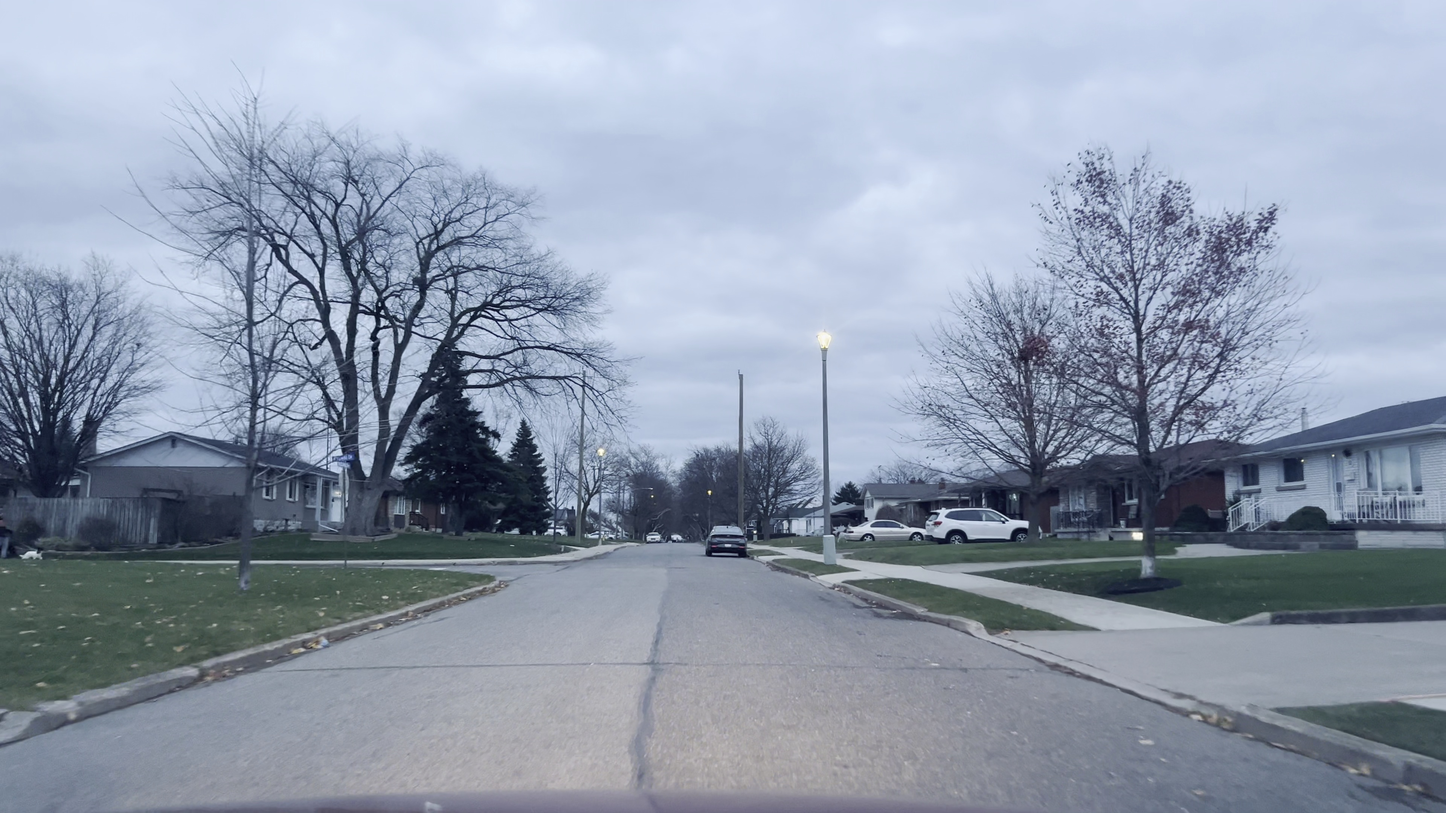cracks: (638, 615, 675, 782)
